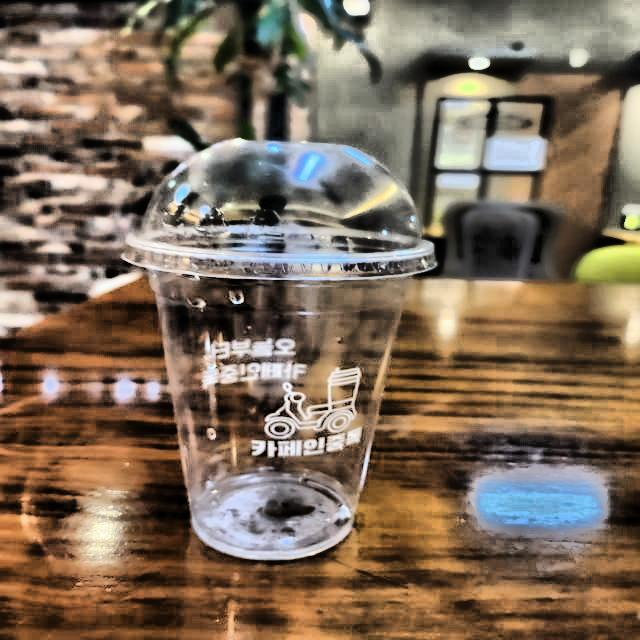plastic cup: (96, 100, 456, 584)
